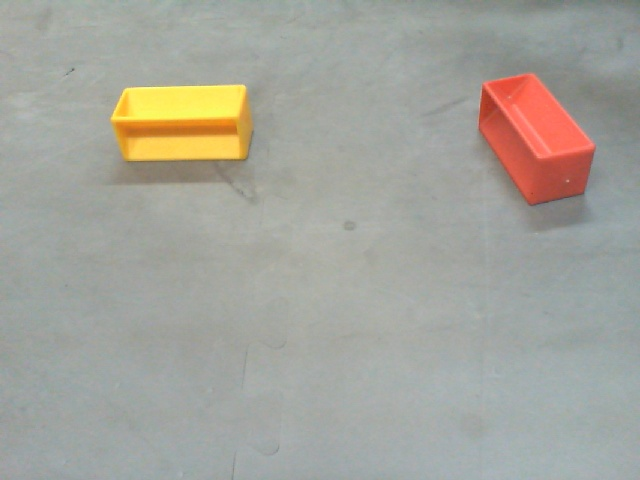RedSample: (478, 72, 594, 204)
YellowSample: (109, 81, 254, 165)
